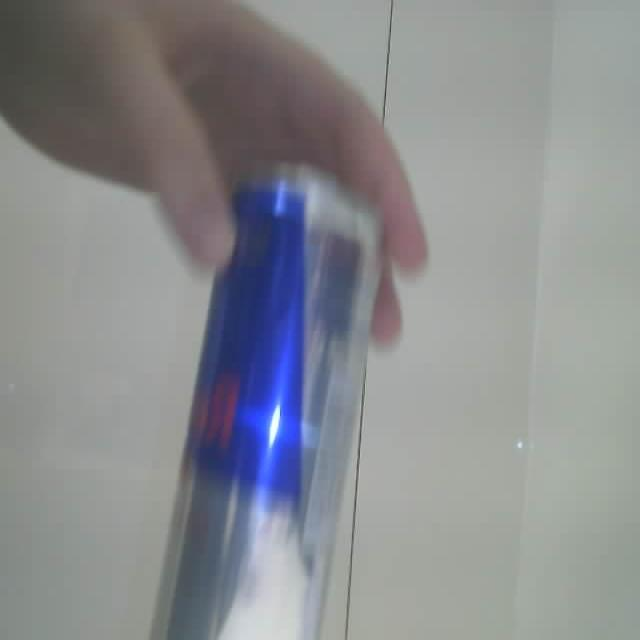redbull can: (152, 167, 380, 639)
